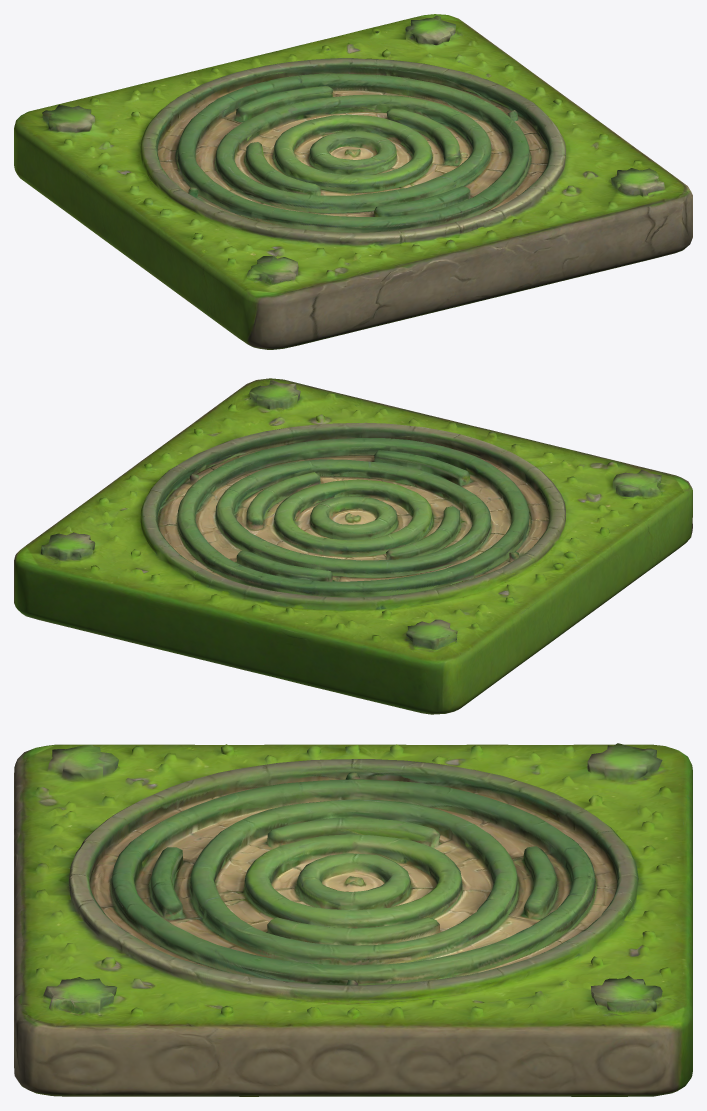
File: Create_a_ground_tile__0523113042_texture.glb
The picture shows the model from 3 angles, top to bottom: view 1: azimuth 30°, elevation 25°; view 2: azimuth 150°, elevation 25°; view 3: azimuth 270°, elevation 25°; orthographic projection. The views are drawn at different scales.
Bounding box in the file's own units: 2 × 0.2728 × 2.
Materials: 1 (1 with a texture image).
